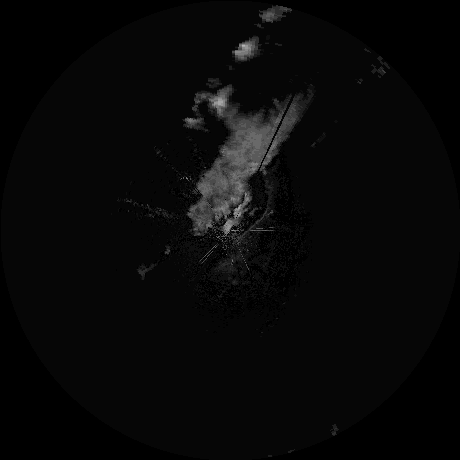frontgust: (241, 203, 269, 241)
